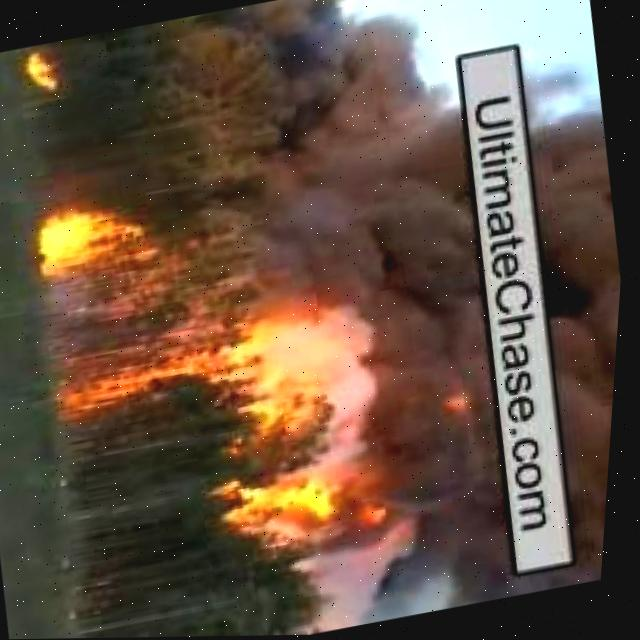Fire: (61, 322, 292, 434), (222, 452, 390, 544), (48, 188, 163, 283), (19, 45, 71, 96)
Smoke: (304, 0, 552, 618), (510, 108, 634, 585), (243, 12, 377, 358)
